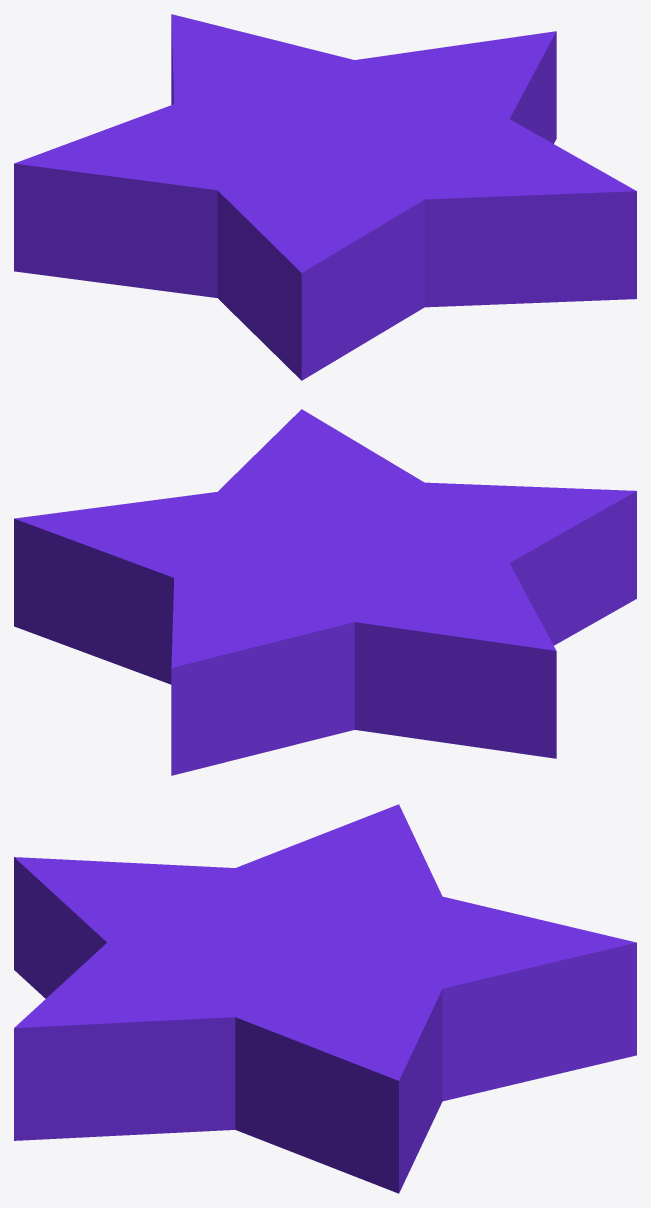
The model's file is star_purple.glb.
3 views of the same model, one above another, from view 1: azimuth 30°, elevation 25°; view 2: azimuth 150°, elevation 25°; view 3: azimuth 270°, elevation 25° (orthographic). The views are drawn at different scales.
Visible parts, largest first — view 1: 円; view 2: 円; view 3: 円.
Part boxes in pixels (bbox=[...]): 円: bbox=[14, 14, 636, 380]; 円: bbox=[14, 409, 636, 775]; 円: bbox=[14, 804, 636, 1193].
Bounding box in the file's own units: 1.9 × 0.3614 × 1.81.
